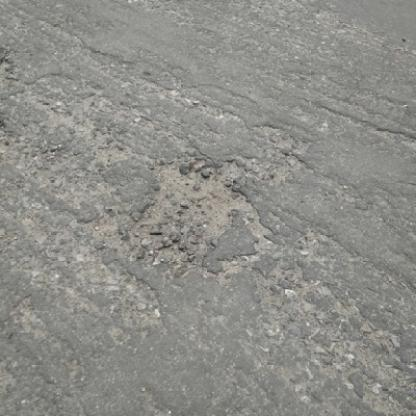pothole: (268, 266, 414, 414), (133, 151, 254, 259), (0, 95, 134, 169), (86, 251, 164, 328)
